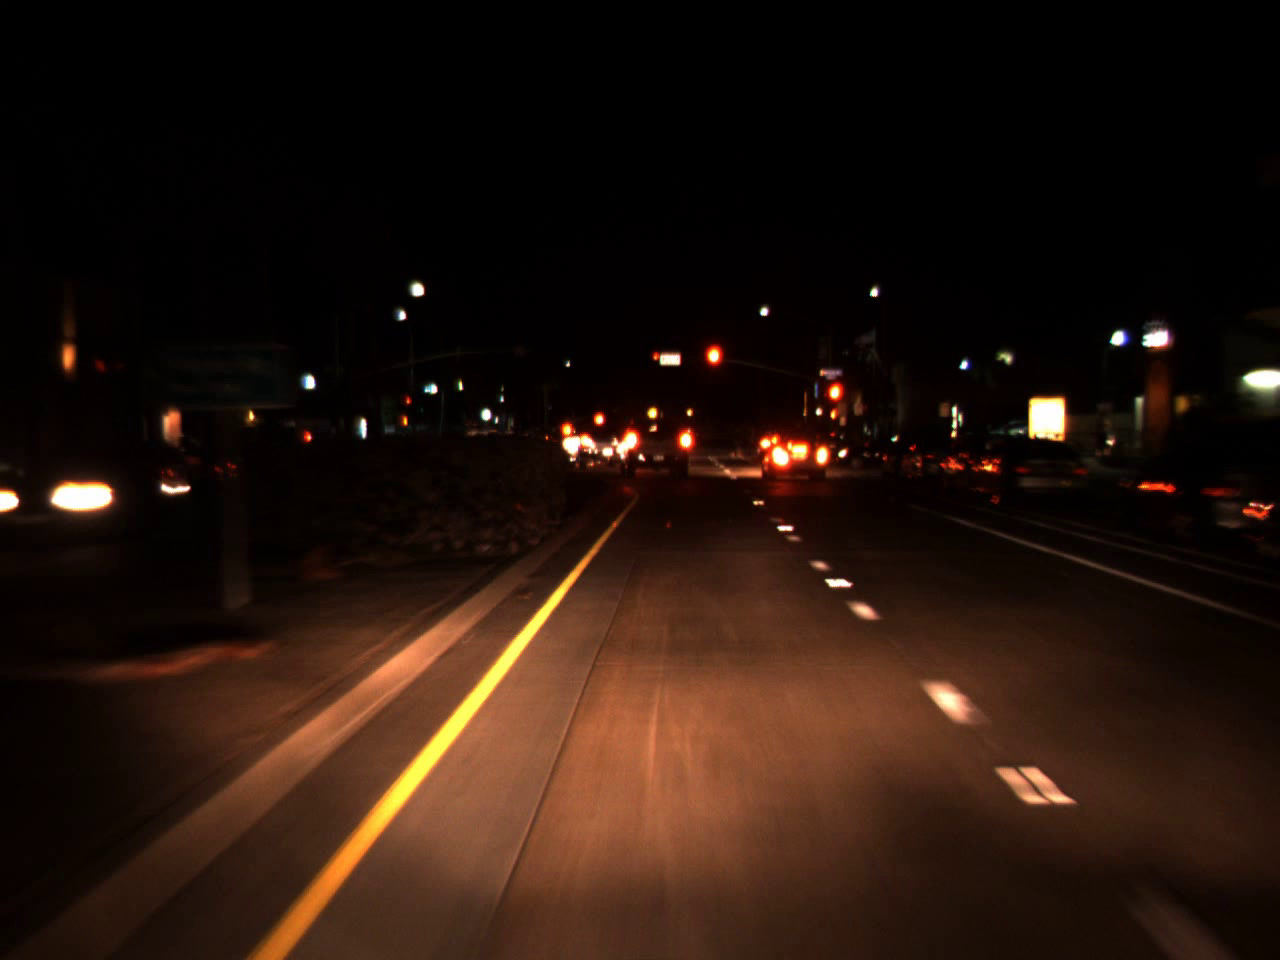stop: (703, 341, 725, 389), (824, 379, 845, 424), (652, 351, 661, 369), (405, 396, 411, 412)
